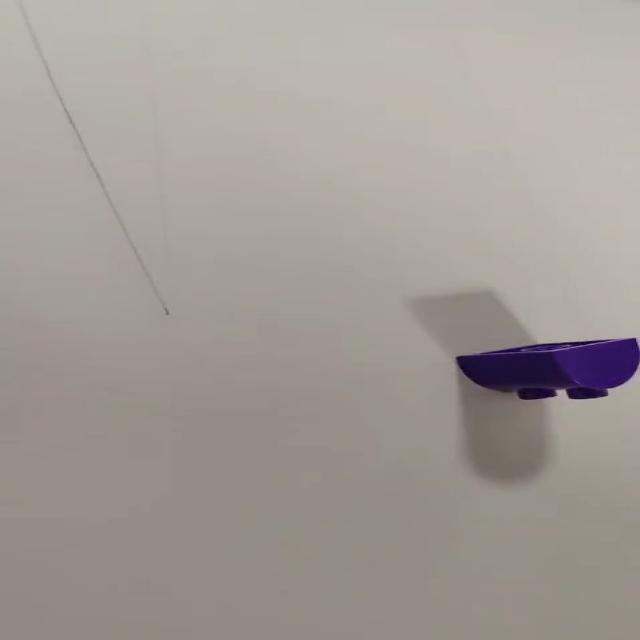H2x2x1: (457, 336, 640, 401)
